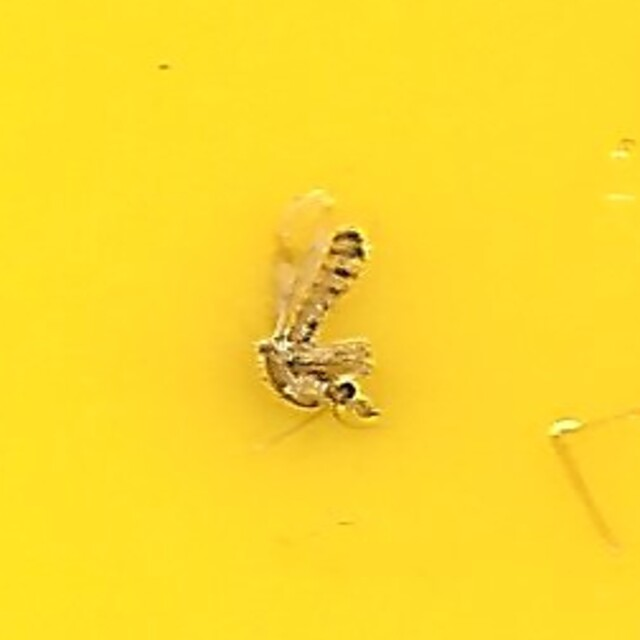Nematocera: (254, 218, 386, 422)
